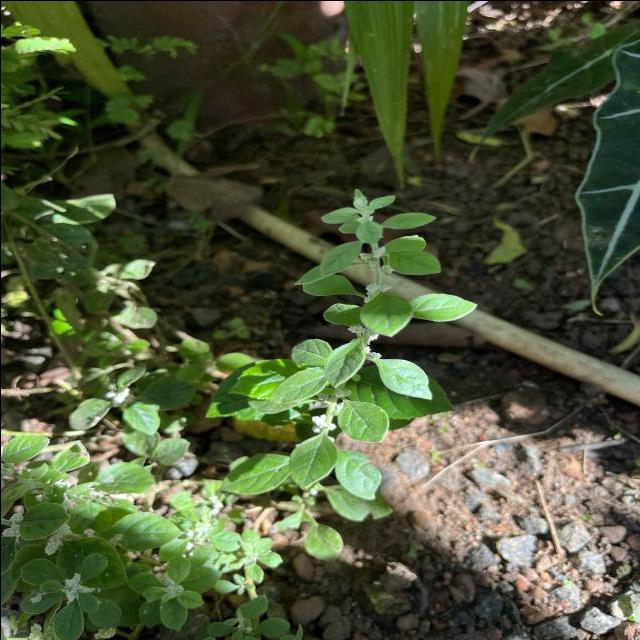Aerva lanata: (372, 354, 434, 402), (321, 335, 370, 389), (335, 399, 390, 444), (409, 290, 480, 324), (267, 366, 326, 405)
